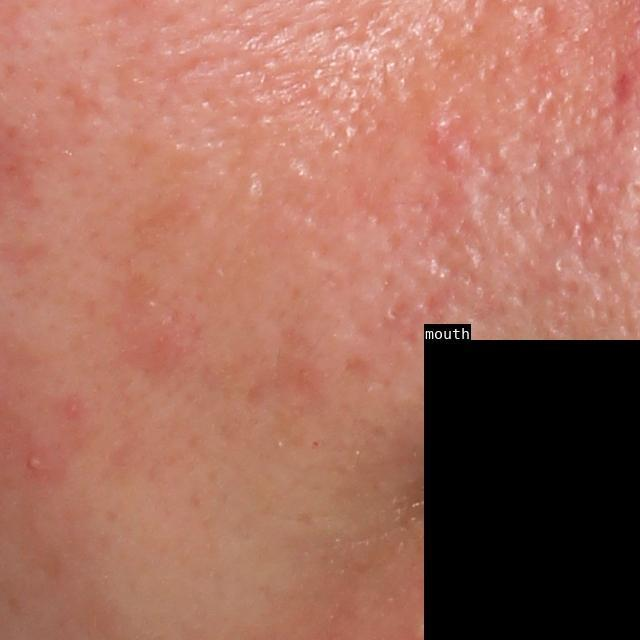pustule: (23, 450, 49, 473)
